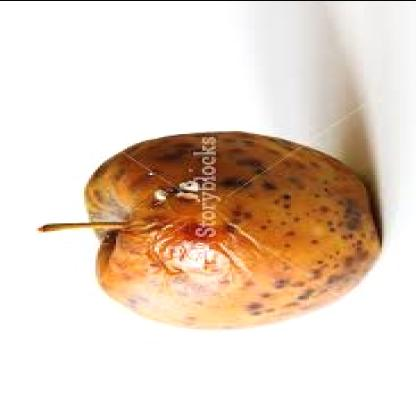damaged_apple: (84, 129, 380, 331)
